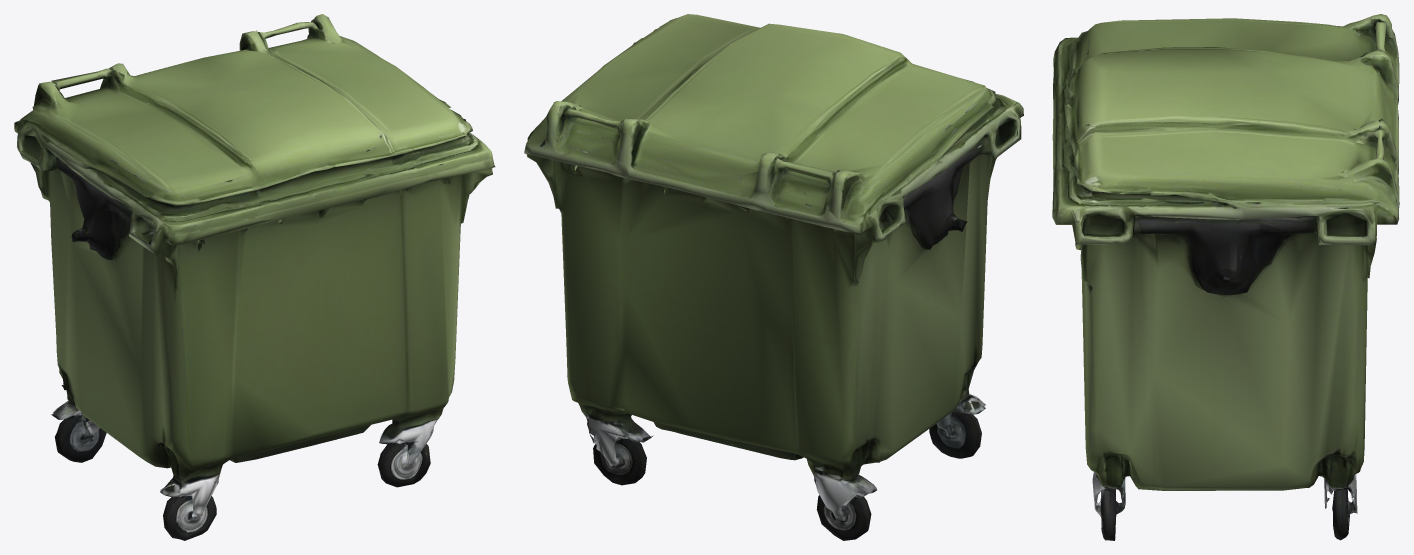
Rendered from ride_bin.glb.
3 renders of one model, left to right at view 1: azimuth 30°, elevation 25°; view 2: azimuth 150°, elevation 25°; view 3: azimuth 270°, elevation 25°, orthographic. The views are drawn at different scales.
Parts seen in each view (by area): view 1: tripo_node_239aa708-7d16-4cb0-86b2-f8a97e487c31; view 2: tripo_node_239aa708-7d16-4cb0-86b2-f8a97e487c31; view 3: tripo_node_239aa708-7d16-4cb0-86b2-f8a97e487c31.
Part boxes in pixels (x1,y1,x2,y2): tripo_node_239aa708-7d16-4cb0-86b2-f8a97e487c31: [14, 14, 495, 540]; tripo_node_239aa708-7d16-4cb0-86b2-f8a97e487c31: [524, 14, 1023, 540]; tripo_node_239aa708-7d16-4cb0-86b2-f8a97e487c31: [1052, 14, 1399, 540].
Size of the model in its own units: 0.9829 by 0.9881 by 0.7565.
Materials: 1 (1 with a texture image).
